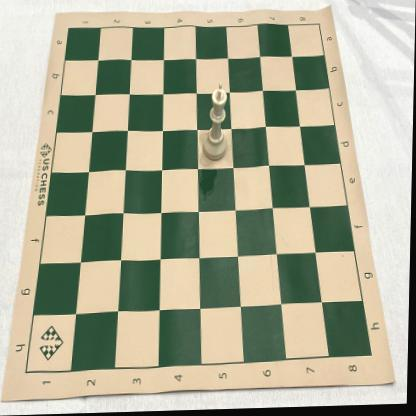white-king: (202, 83, 229, 163)
